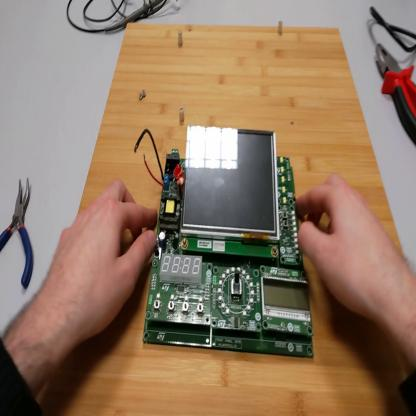hand: (44, 177, 159, 347), (297, 173, 402, 329)
low voltage board: (136, 126, 317, 359)
oscilloscope probe tip: (104, 1, 163, 35)
pliers: (375, 44, 416, 147), (2, 175, 36, 288)
working area: (35, 28, 405, 414)
